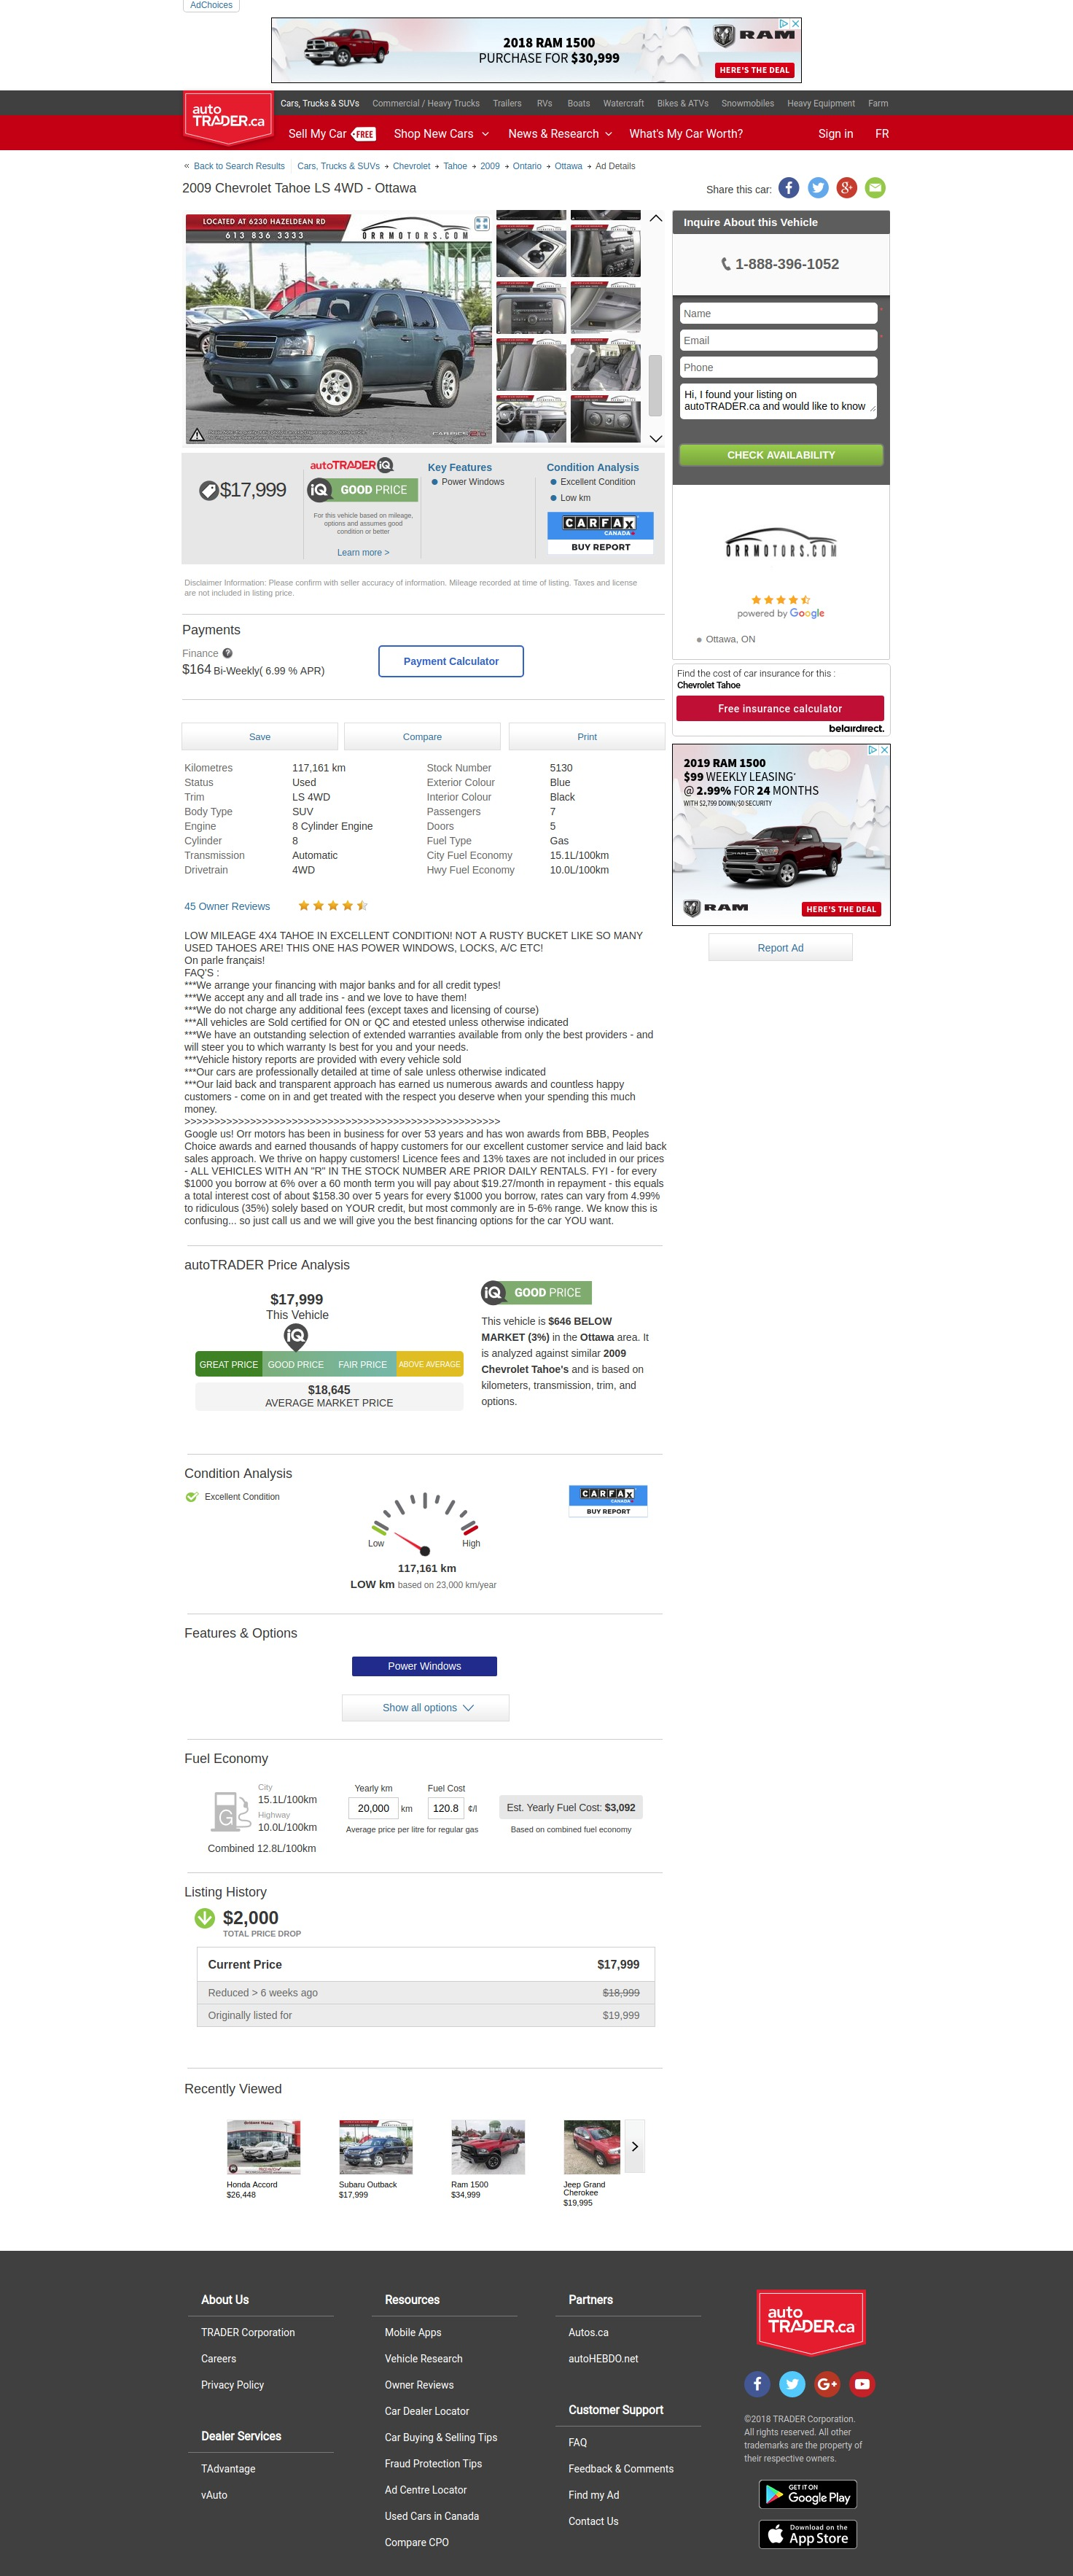car: (651, 435, 664, 444)
